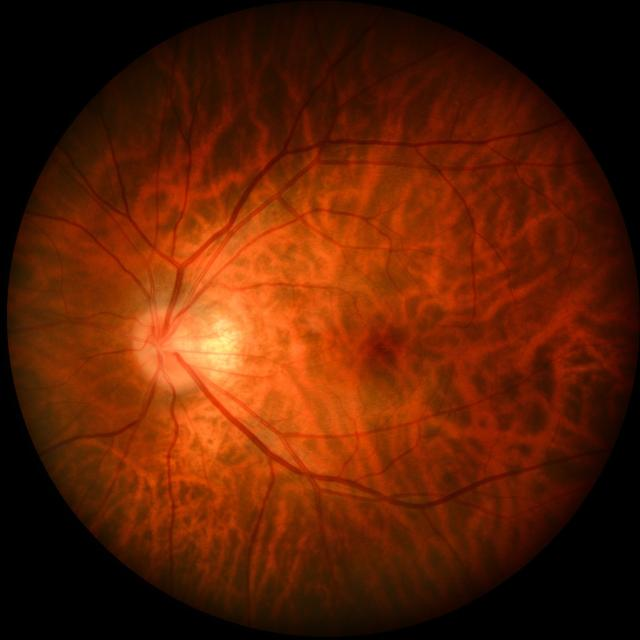OC: (147, 330, 181, 361)
OD: (134, 305, 202, 389)
